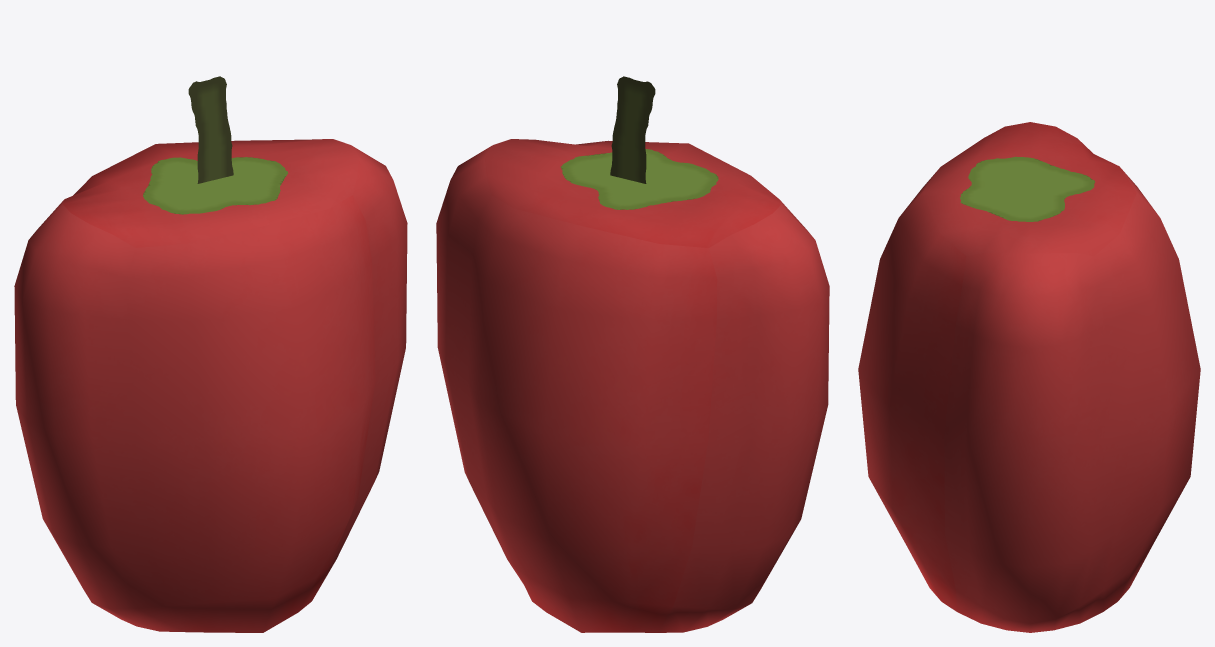
The model's file is Pepper.fbx.
3 renders of one model, left to right at view 1: azimuth 30°, elevation 25°; view 2: azimuth 150°, elevation 25°; view 3: azimuth 270°, elevation 25°, orthographic. The views are drawn at different scales.
Parts seen in each view (by area): view 1: Pepper; view 2: Pepper; view 3: Pepper.
Boxes of the visible parts, bbox=[...] form: Pepper: bbox=[14, 76, 407, 632]; Pepper: bbox=[436, 76, 829, 632]; Pepper: bbox=[858, 122, 1200, 632].
Size of the model in its own units: 21.36 by 30.82 by 17.5.
